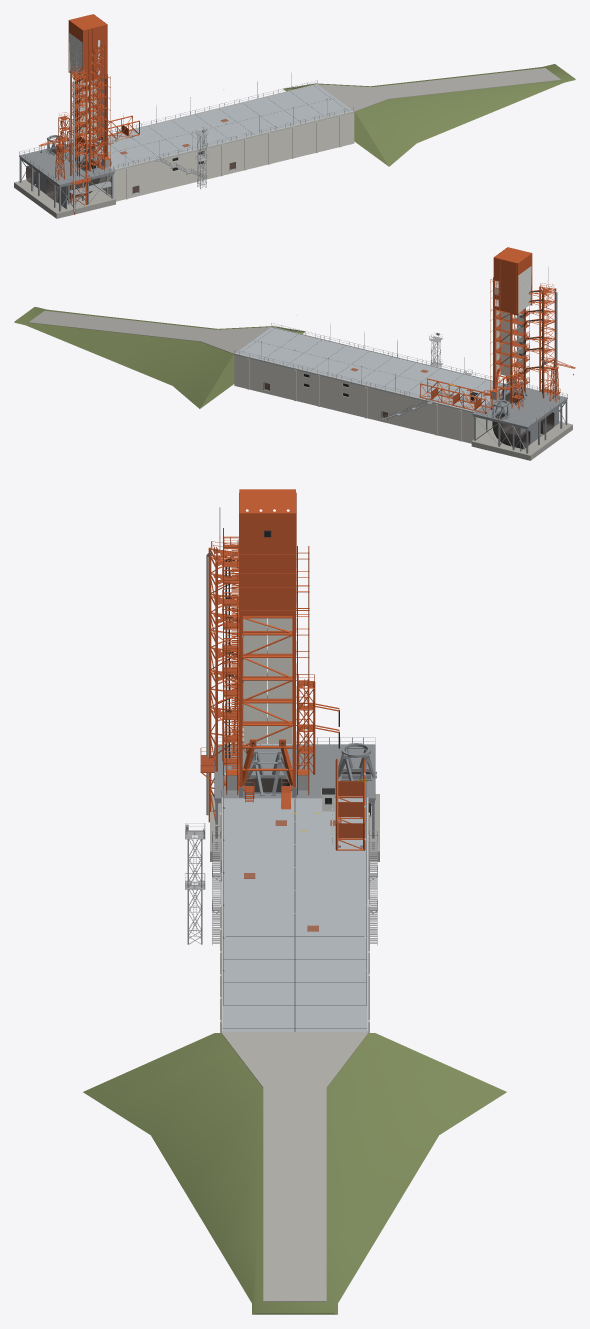
The model's file is pad.lod1.glb.
3 renders of one model, top to bottom at view 1: azimuth 30°, elevation 25°; view 2: azimuth 150°, elevation 25°; view 3: azimuth 270°, elevation 25°, orthographic. The views are drawn at different scales.
Visible parts, largest first — view 1: LaunchStand_White, LaunchStand_Deckpaint, Ramp_Earth, Ramp_Concrete, Erector_Red, LaunchStand_Grey, LaunchStand_Concrete, UmbilicalTower_Red, LaunchStand_GreyRails, Erector_ReddeckStairs, Erector_RedStairrails, LaunchStand_Duct (+7 smaller); view 2: LaunchStand_White, LaunchStand_Deckpaint, Ramp_Earth, Erector_Red, Ramp_Concrete, LaunchStand_Grey, LaunchStand_Concrete, UmbilicalTower_Red, LaunchStand_Duct, Erector_Curtain, LaunchStand_GreyRails, Stage2Erector_Red (+4 smaller); view 3: Ramp_Earth, LaunchStand_Deckpaint, Ramp_Concrete, Erector_Red, Erector_Curtain, LaunchStand_Grey, UmbilicalTower_Red, Erector_ReddeckStairs, LaunchStand_DeckStairs, LaunchStand_White, CameraTower_Galv, LaunchStand_Joint (+2 smaller).
Part boxes in pixels (x1,y1,x2,y2): LaunchStand_White: [98, 84, 354, 201]; LaunchStand_Deckpaint: [78, 84, 354, 170]; Ramp_Earth: [283, 64, 575, 166]; Ramp_Concrete: [318, 68, 560, 112]; Erector_Red: [68, 14, 110, 173]; LaunchStand_Grey: [19, 142, 114, 211]; LaunchStand_Concrete: [14, 179, 115, 218]; UmbilicalTower_Red: [70, 67, 90, 214]; LaunchStand_GreyRails: [19, 80, 353, 182]; Erector_ReddeckStairs: [90, 46, 104, 169]; Erector_RedStairrails: [89, 43, 104, 168]; LaunchStand_Duct: [26, 148, 99, 202]; LaunchStand_White: [234, 326, 504, 443]; LaunchStand_Deckpaint: [234, 327, 506, 413]; Ramp_Earth: [14, 307, 305, 408]; Erector_Red: [490, 247, 532, 403]; Ramp_Concrete: [29, 310, 270, 354]; LaunchStand_Grey: [472, 386, 567, 453]; LaunchStand_Concrete: [471, 421, 572, 460]; UmbilicalTower_Red: [525, 286, 559, 398]; LaunchStand_Duct: [492, 393, 554, 449]; Erector_Curtain: [496, 310, 523, 376]; LaunchStand_GreyRails: [234, 323, 567, 425]; Stage2Erector_Red: [420, 378, 492, 413]; Ramp_Earth: [83, 1033, 506, 1314]; LaunchStand_Deckpaint: [222, 798, 367, 1032]; Ramp_Concrete: [221, 1032, 368, 1301]; Erector_Red: [223, 489, 309, 795]; Erector_Curtain: [243, 618, 292, 743]; LaunchStand_Grey: [214, 744, 375, 849]; UmbilicalTower_Red: [201, 547, 239, 822]; Erector_ReddeckStairs: [224, 544, 239, 784]; LaunchStand_DeckStairs: [212, 838, 377, 944]; LaunchStand_White: [220, 797, 369, 1032]; CameraTower_Galv: [185, 823, 205, 944]; LaunchStand_Joint: [223, 799, 366, 1031].
Bounding box in the file's own units: 166 × 51.93 × 57.
